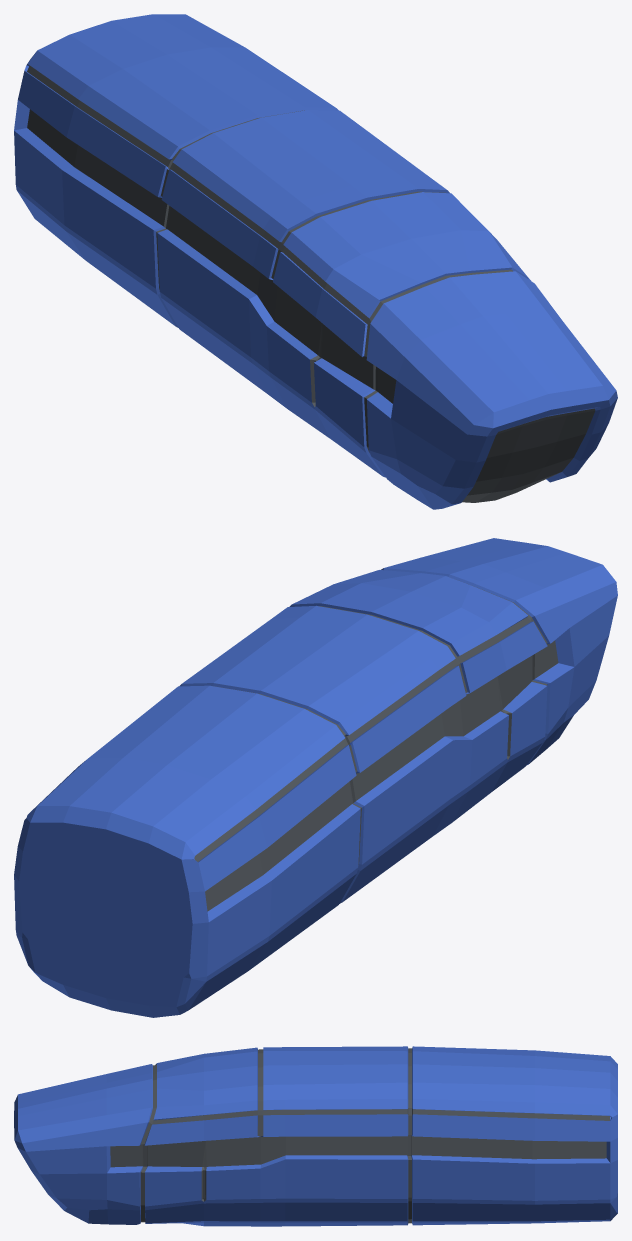
Rendered from Dropship_04_Body_Blue.fbx.
The picture shows the model from 3 angles, top to bottom: view 1: azimuth 30°, elevation 25°; view 2: azimuth 150°, elevation 25°; view 3: azimuth 270°, elevation 25°; orthographic projection. The views are drawn at different scales.
Parts seen in each view (by area): view 1: Dropship_04_Body_Blue; view 2: Dropship_04_Body_Blue; view 3: Dropship_04_Body_Blue.
Part boxes in pixels (x1=…): Dropship_04_Body_Blue: x1=14, y1=14, x2=617, y2=509; Dropship_04_Body_Blue: x1=14, y1=538, x2=617, y2=1017; Dropship_04_Body_Blue: x1=14, y1=1046, x2=617, y2=1226.
Size of the model in its own units: 361 by 358 by 1327.
Materials: 1 (1 with a texture image).
